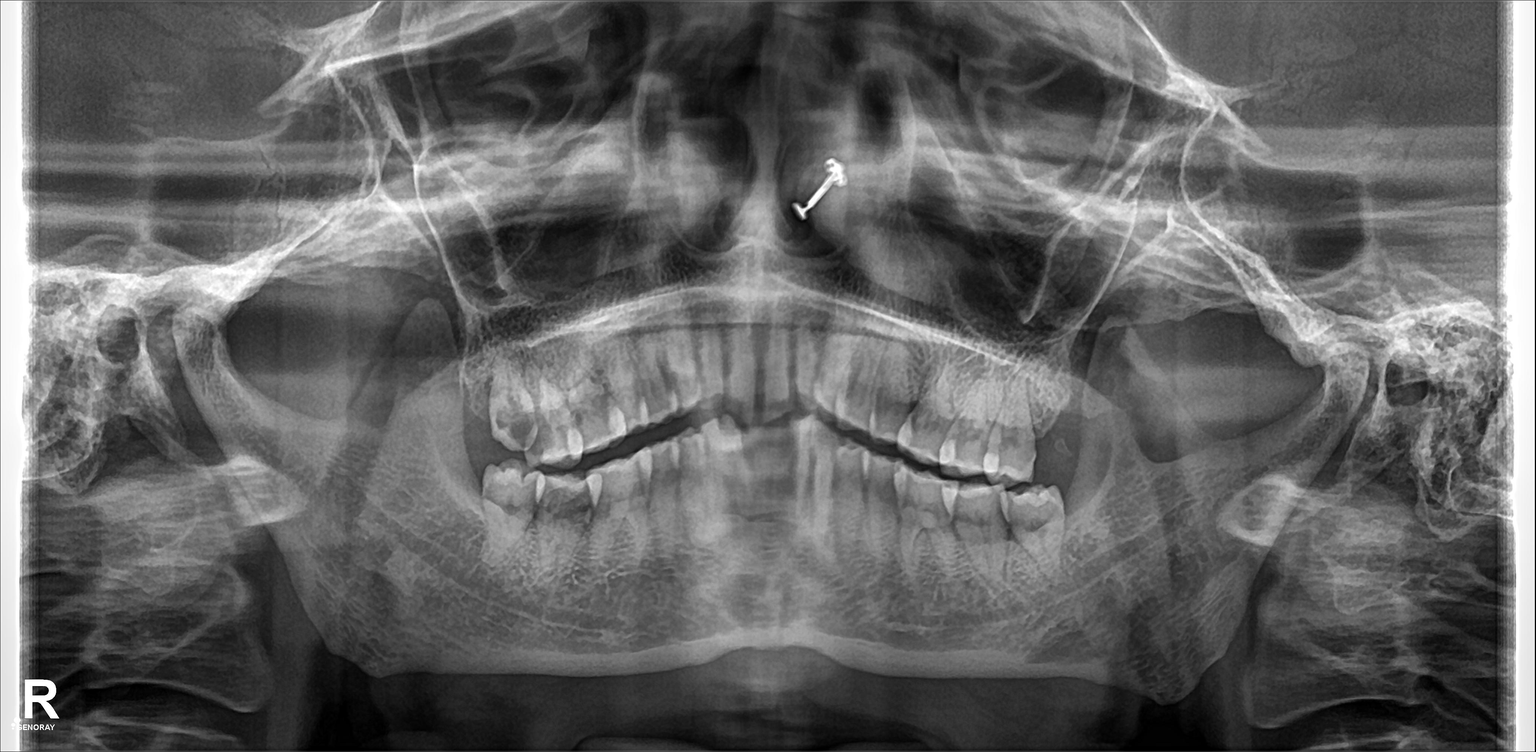Dental Caries: (536, 478, 600, 520), (497, 408, 535, 450)
Missing Tooth: (1035, 370, 1082, 465), (453, 369, 498, 441)
